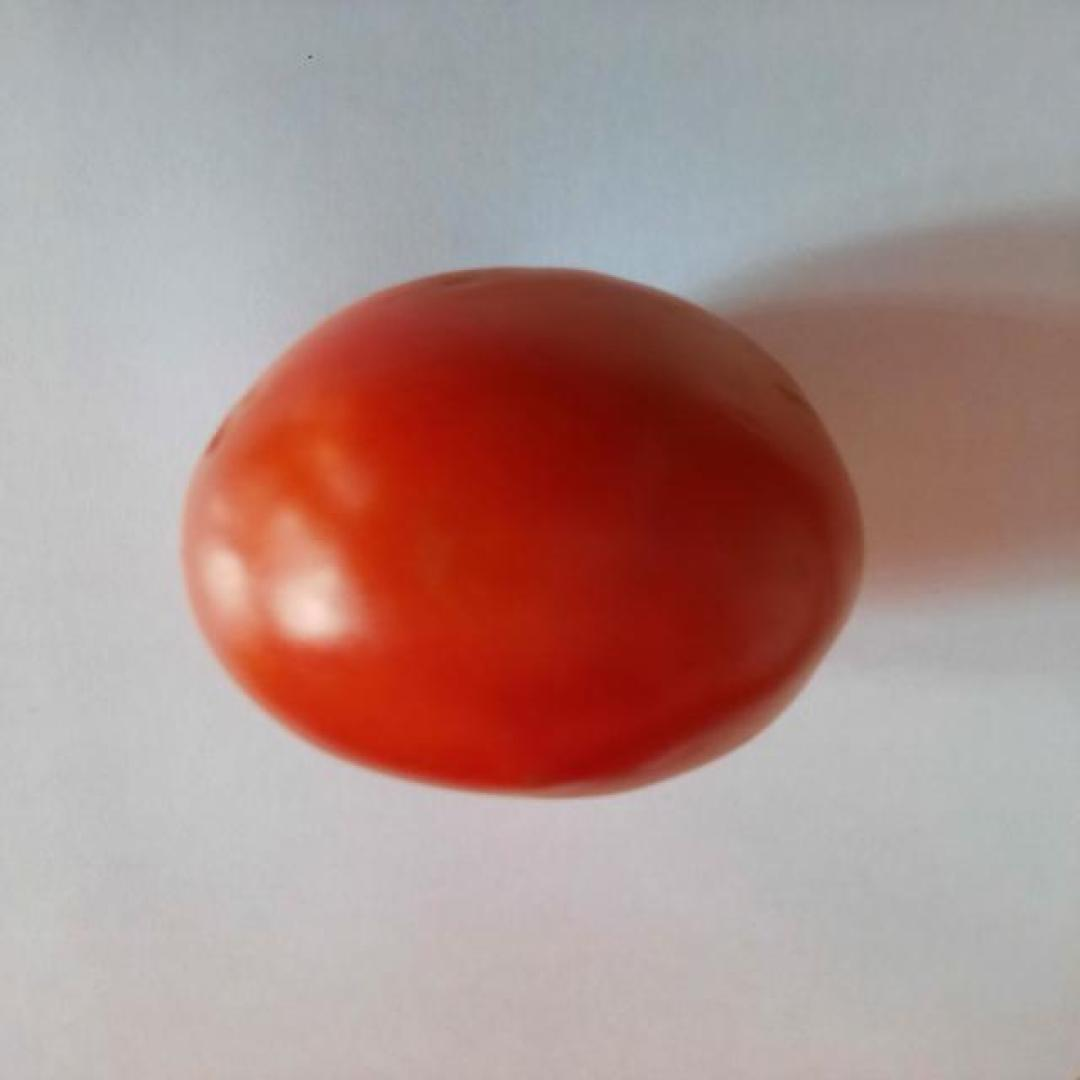matang: (174, 261, 869, 805)
